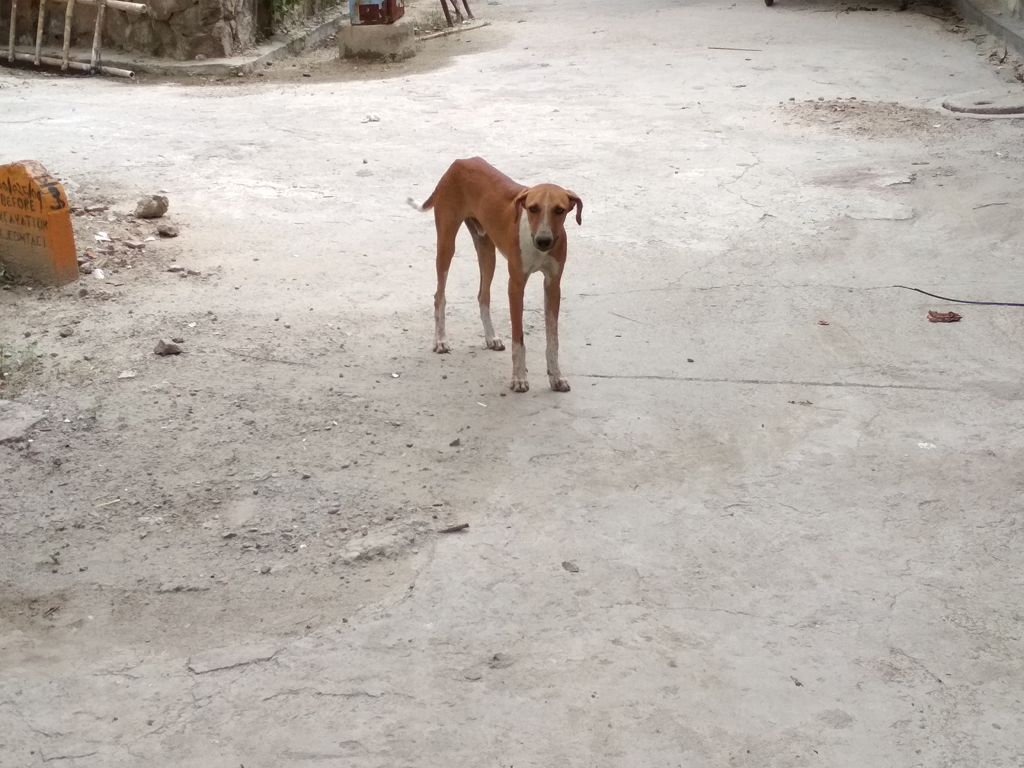dog: (405, 156, 581, 392)
